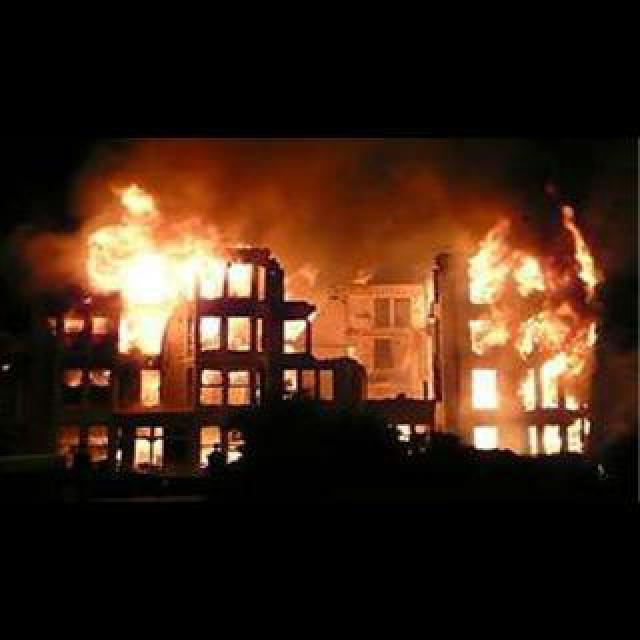Fire: (74, 176, 274, 358), (468, 200, 618, 408), (282, 288, 320, 360)
